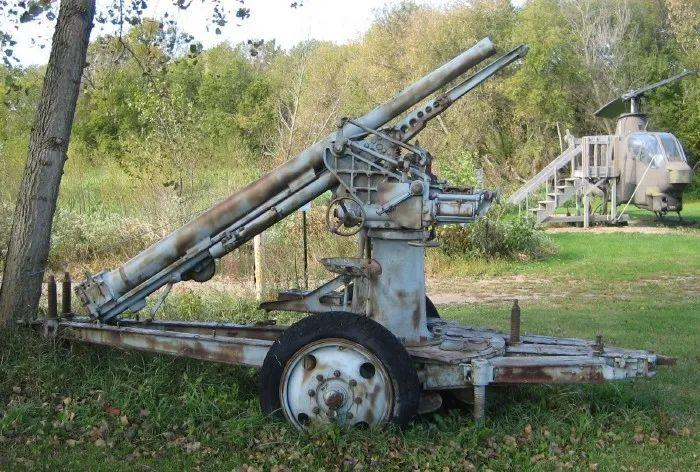MIL_SPG: (55, 40, 658, 427)
